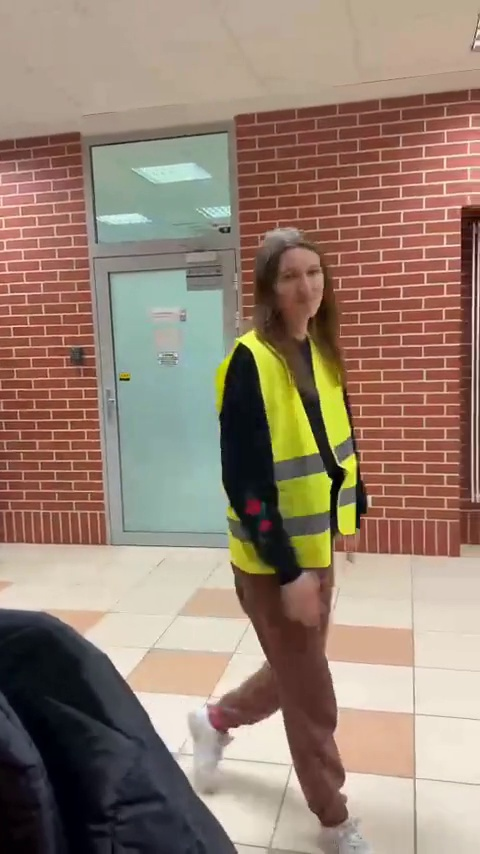vest: (210, 232, 386, 797)
